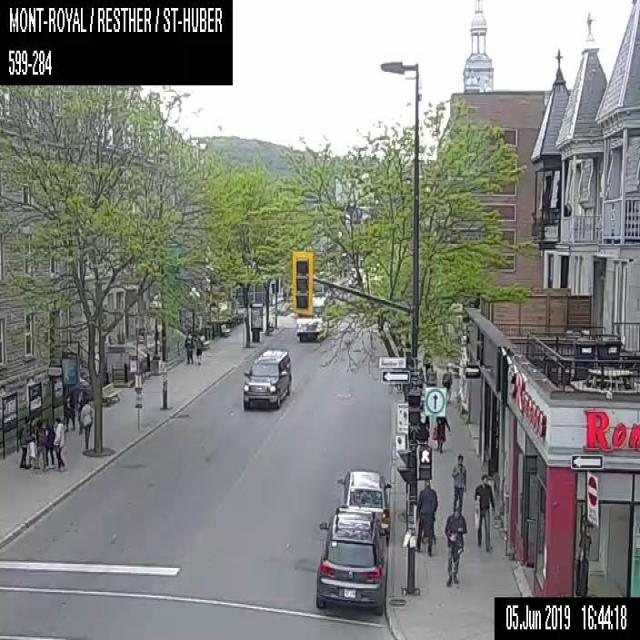pedestrian: (443, 508, 466, 587), (415, 479, 437, 556), (473, 474, 494, 552), (450, 454, 466, 516), (17, 415, 33, 468), (52, 415, 66, 470), (79, 398, 93, 452), (432, 415, 450, 452), (35, 418, 45, 468), (44, 418, 54, 466), (63, 390, 75, 430), (441, 366, 452, 402), (28, 417, 35, 466), (193, 331, 203, 363), (184, 330, 194, 362)
vehicle: (316, 512, 387, 615), (337, 468, 389, 543), (242, 349, 291, 409), (296, 295, 328, 341)
